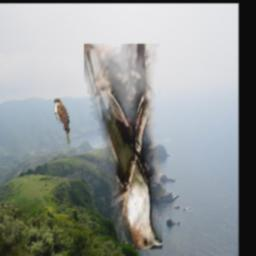Cuckoo: (85, 44, 163, 249), (54, 100, 71, 149)
